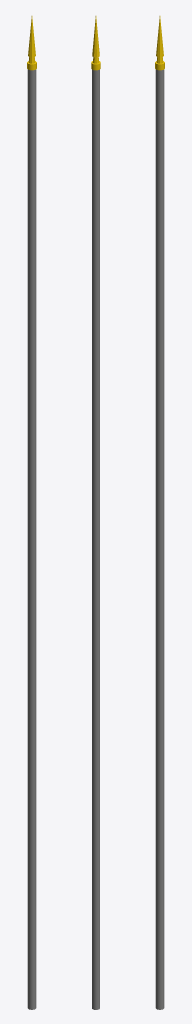
File: pole.glb
3 views of the same model, side by side, from view 1: azimuth 90°, elevation 25°; view 2: azimuth 150°, elevation 25°; view 3: azimuth 270°, elevation 25° (orthographic).
Parts seen in each view (by area): view 1: pCylinder356; view 2: pCylinder356; view 3: pCylinder356.
Boxes of the visible parts, <box> form: pCylinder356: <box>27,16,36,1009</box>; pCylinder356: <box>91,16,100,1009</box>; pCylinder356: <box>155,16,164,1009</box>.
Bounding box in the file's own units: 0.0642 × 7.07 × 0.0642.
